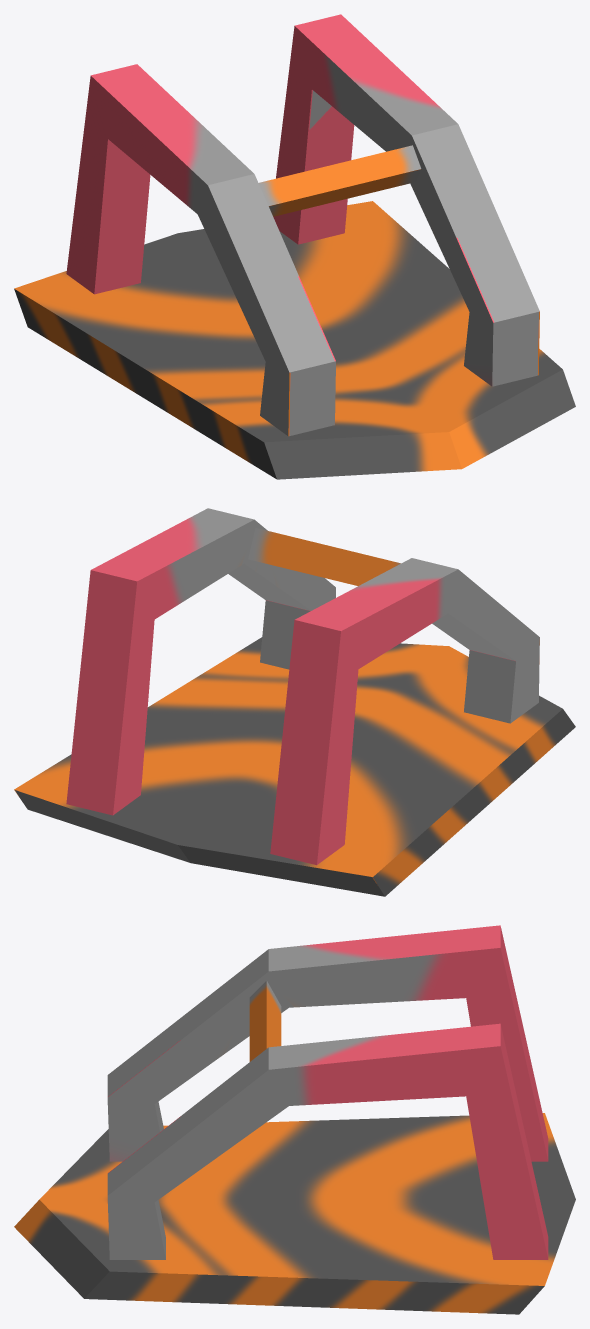
File: cage_1.glb
3 renders of one model, top to bottom at view 1: azimuth 30°, elevation 25°; view 2: azimuth 150°, elevation 25°; view 3: azimuth 270°, elevation 25°, orthographic.
Visible parts, largest first — view 1: Cube, Cylinder; view 2: Cube, Cylinder; view 3: Cylinder, Cube.
Part boxes in pixels (bbox=[...]): Cube: bbox=[66, 14, 539, 436]; Cylinder: bbox=[14, 201, 575, 479]; Cube: bbox=[66, 508, 539, 865]; Cylinder: bbox=[14, 637, 575, 896]; Cylinder: bbox=[14, 1113, 575, 1314]; Cube: bbox=[107, 925, 548, 1259].
Size of the model in its own units: 1.16 by 0.7556 by 1.59.
Materials: 2 (2 with a texture image).
